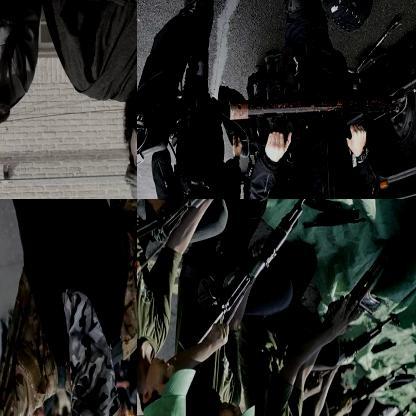rifle: (179, 199, 324, 356), (300, 231, 405, 346), (137, 199, 289, 267), (311, 310, 401, 384), (326, 362, 408, 409), (336, 403, 414, 415)
